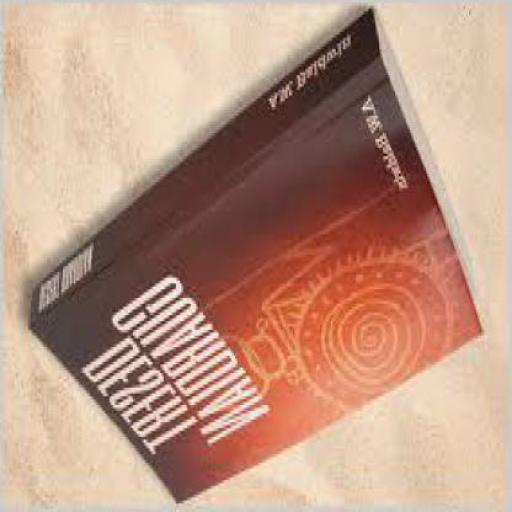paper: (26, 6, 482, 506)
